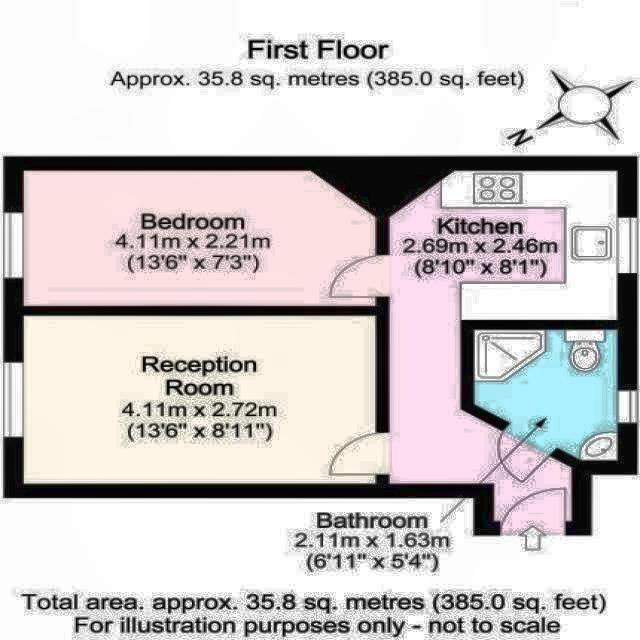room: (390, 171, 617, 522), (23, 316, 375, 484), (24, 169, 376, 306), (473, 329, 617, 461)
